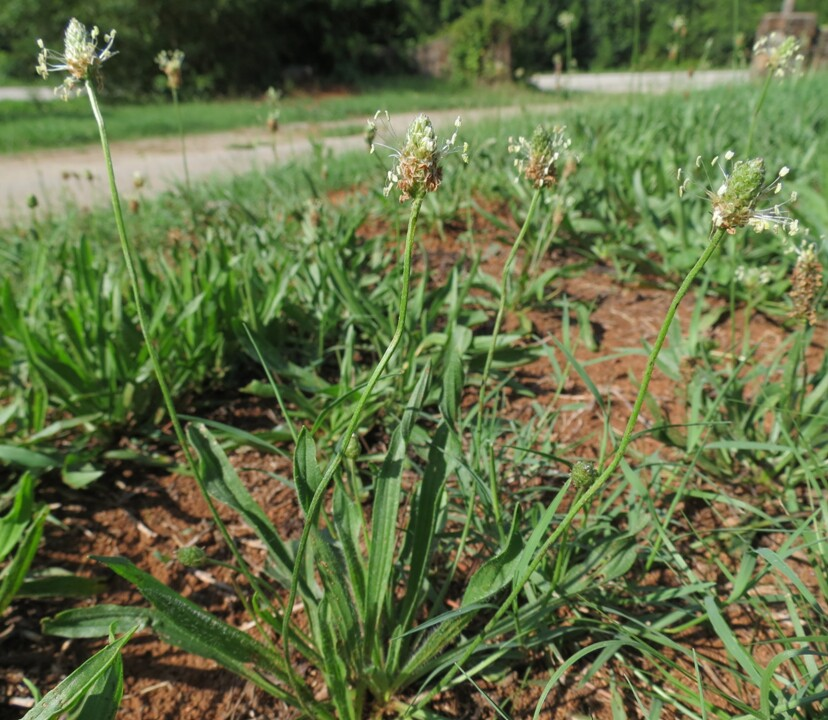buckhorn plantain: (47, 26, 632, 696)
